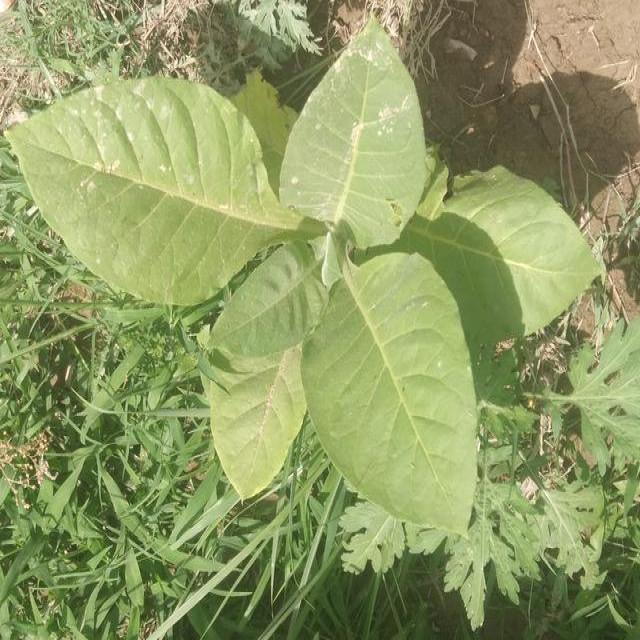crop: (13, 18, 600, 540)
